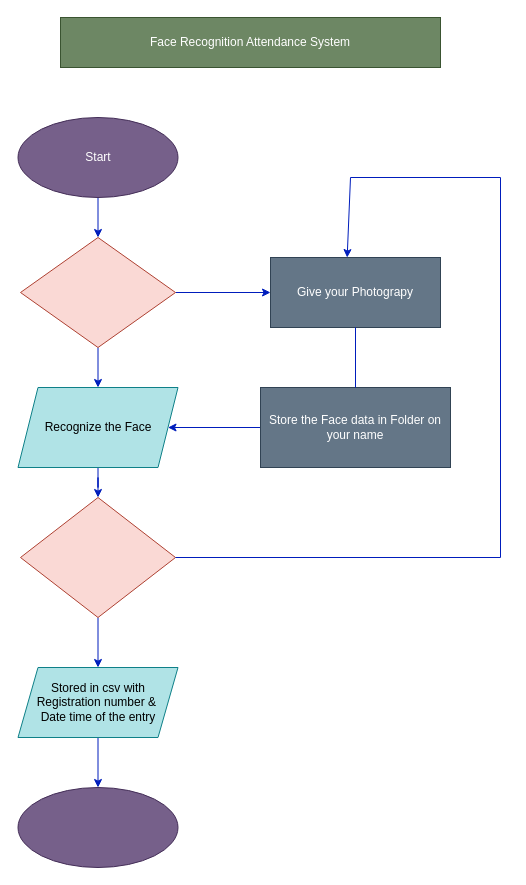
Image size: 526x885. Some labels were removed from this diagram. Here are the shapes that lost their labels. From the top down, the centre of each, then its label:
At (98,292): "New User?".
At (98,557): "Face Recognized".
At (97,827): "End".
